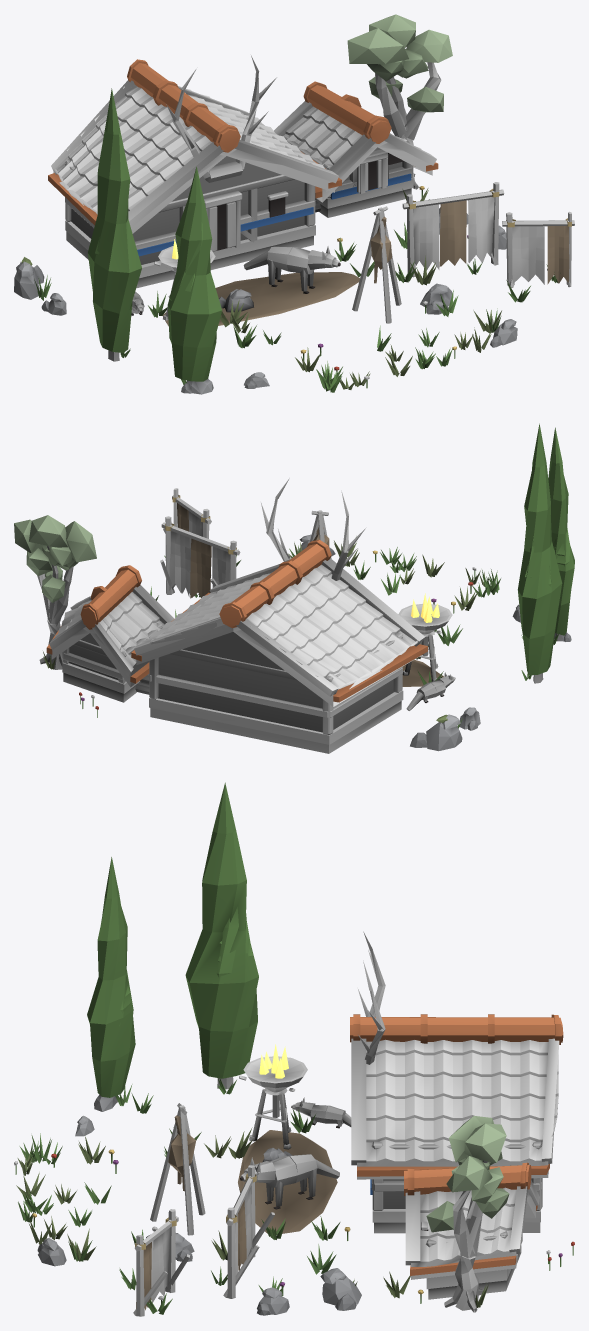
The model's file is hunters-lodge-l2.glb.
The picture shows the model from 3 angles, top to bottom: view 1: azimuth 30°, elevation 25°; view 2: azimuth 150°, elevation 25°; view 3: azimuth 270°, elevation 25°; orthographic projection. The views are drawn at different scales.
Visible parts, largest first — view 1: hunters-lodge-l2; view 2: hunters-lodge-l2; view 3: hunters-lodge-l2.
Part boxes in pixels (x1,y1,x2,y2): hunters-lodge-l2: (14,14,574,394); hunters-lodge-l2: (14,423,574,753); hunters-lodge-l2: (14,782,574,1316).
Bounding box in the file's own units: 1.63 × 0.9368 × 1.54.
